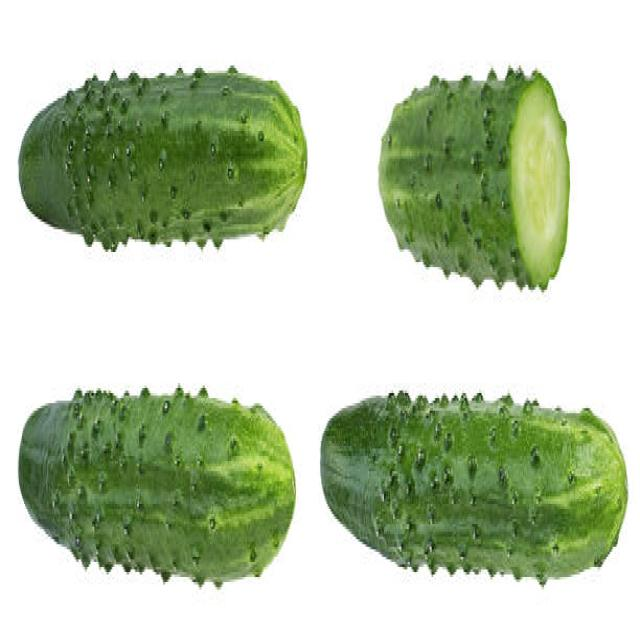cucumber: (320, 389, 629, 586), (18, 383, 296, 588), (18, 67, 306, 256), (378, 65, 571, 293)
